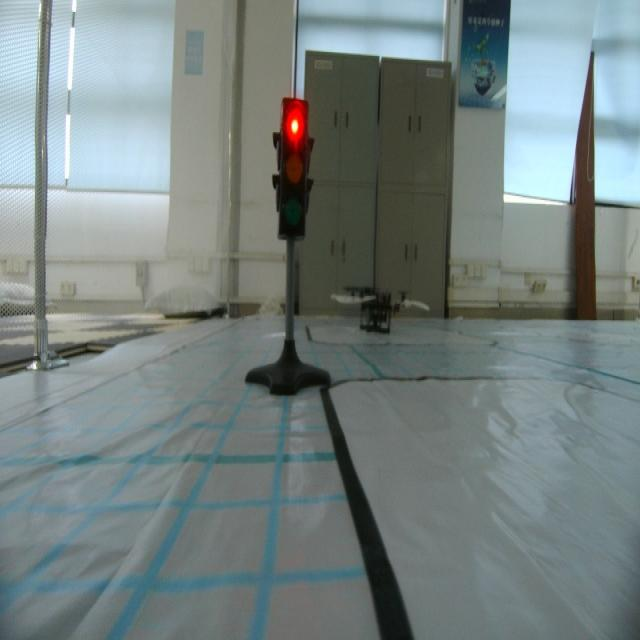red: (269, 89, 311, 247)
